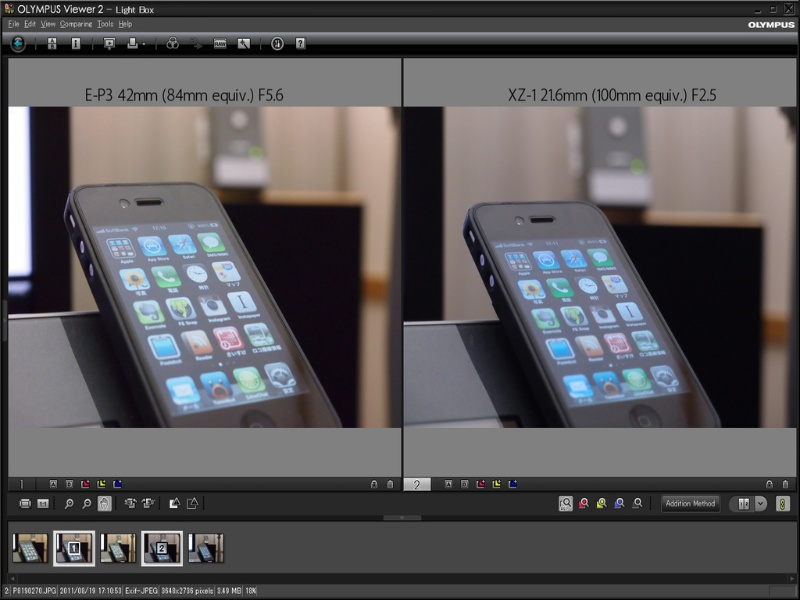cellphone: (59, 181, 353, 429)
